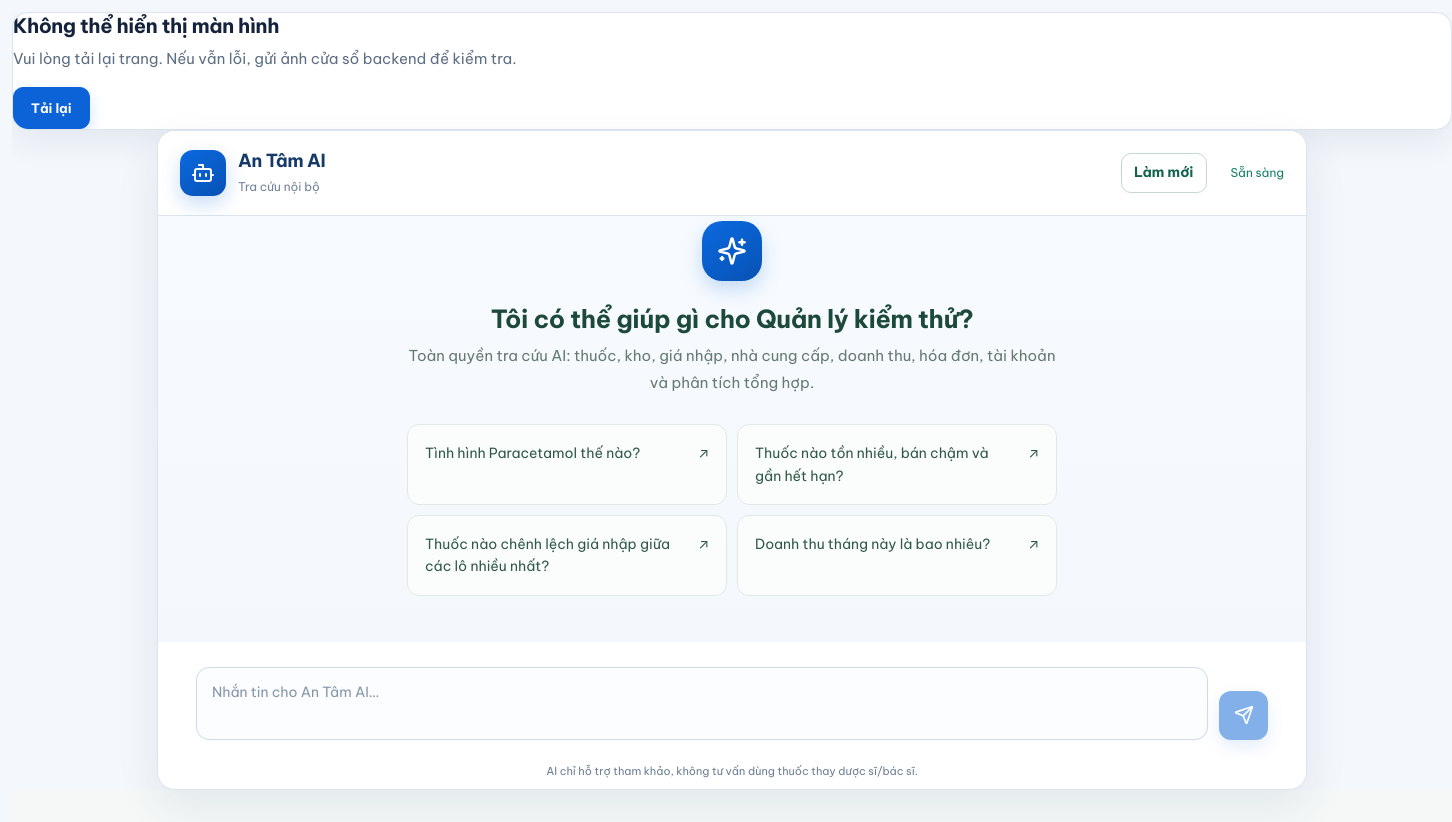
Test: AI renders a Markdown table safely
The width and height of the screenshot is (1452, 822).
(page scrolled)
Type "Tồn?" into the text box with placeholder "Nhắn tin cho An Tâm AI…" at (702, 703), box [196,666,1208,740]
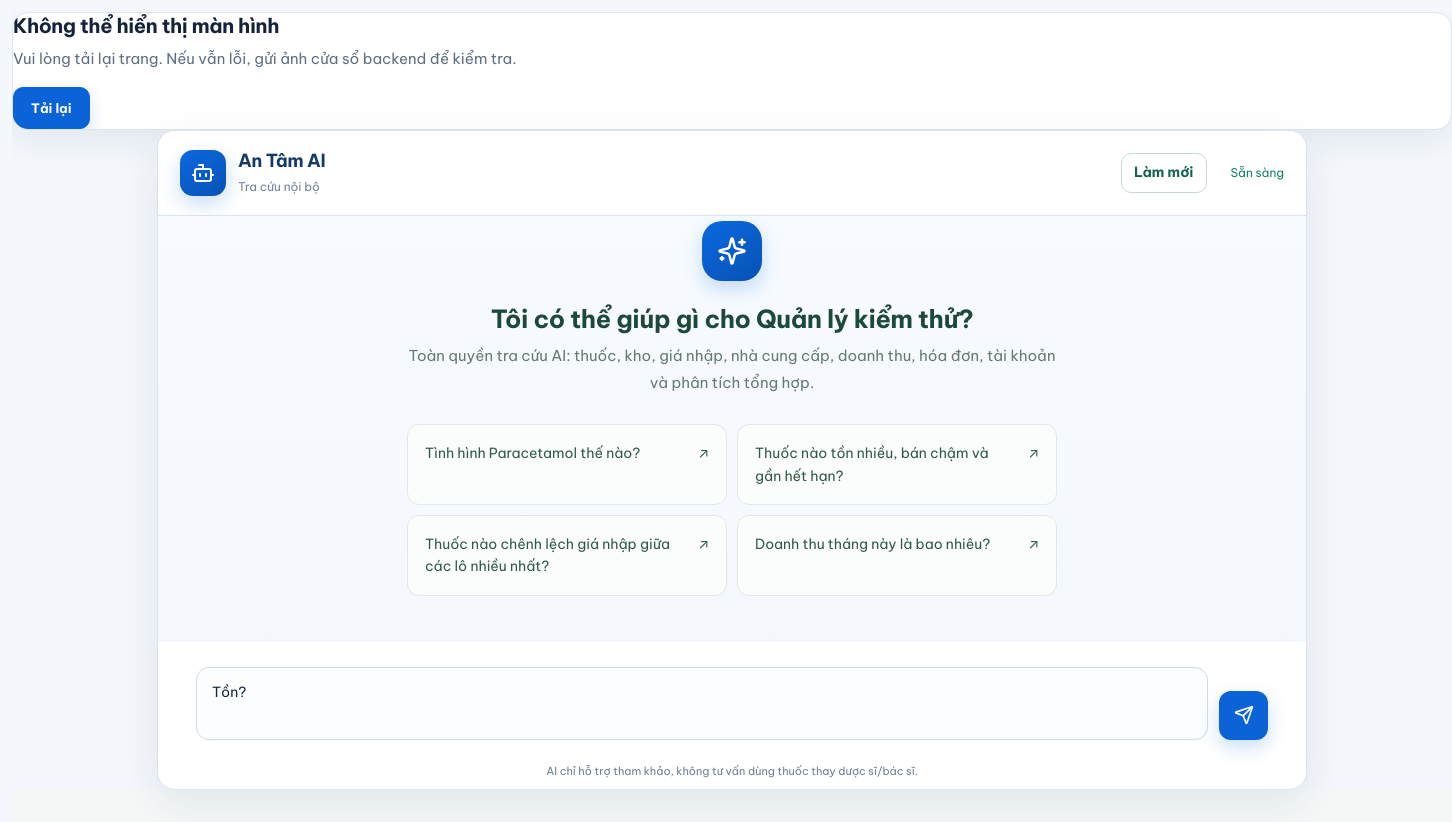
Click the button named "Gửi" at (1244, 715), box [1219,691,1268,740]
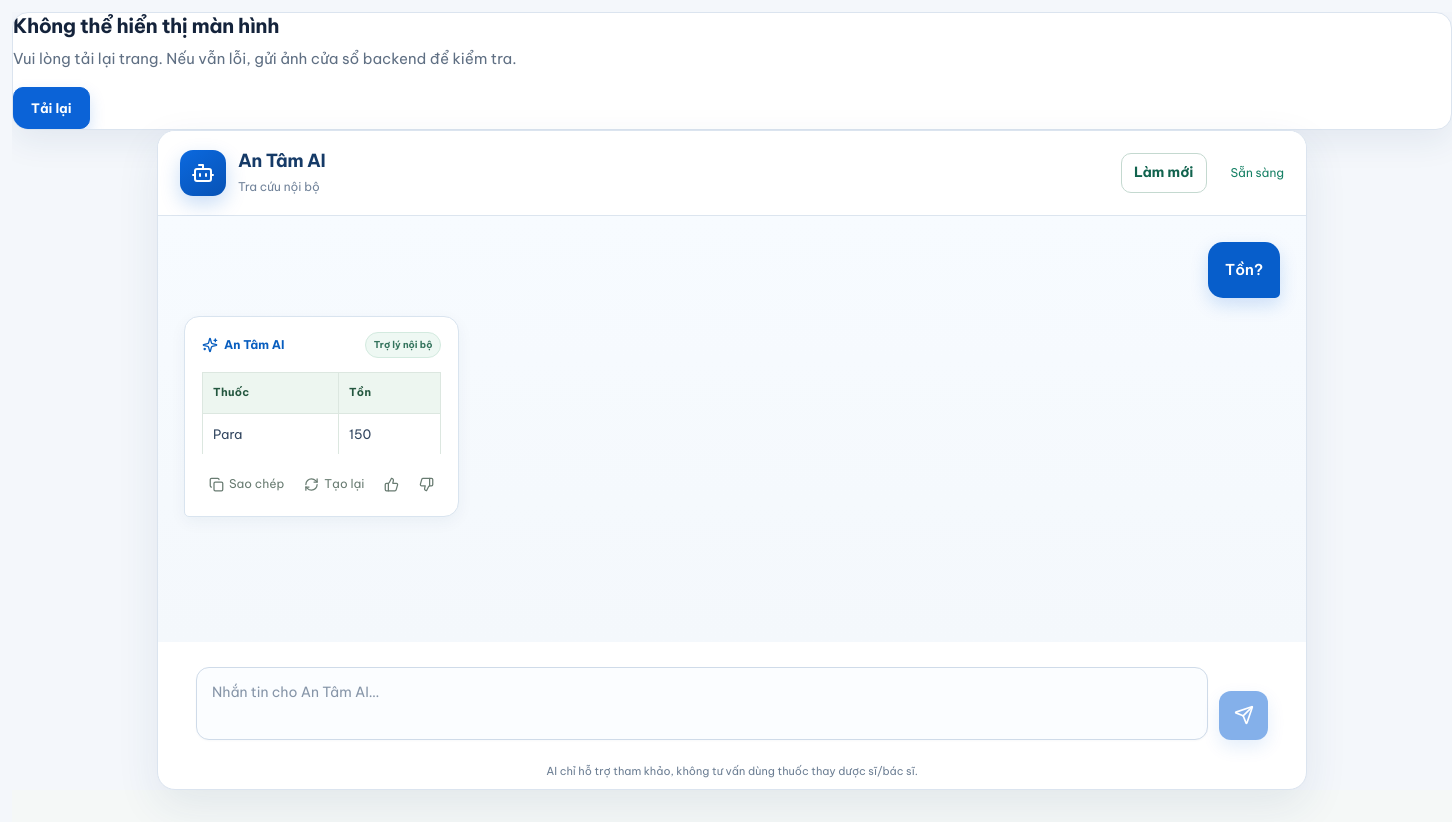
Now the table is shown, box [202,372,442,454]
Now the cell "150" is shown, box [338,414,441,454]
